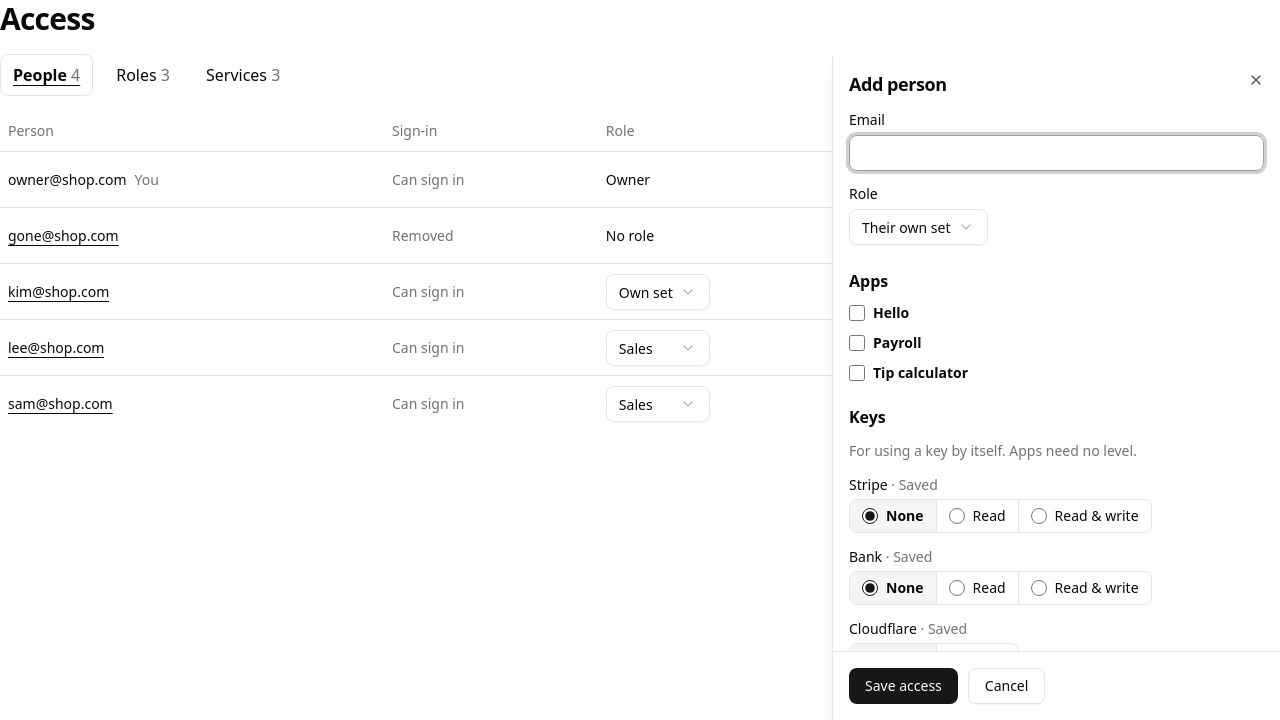
Test case: carries the setup message, unchanged, for a person who may connect, so they can paste it all into their assistant
Type "ann@shop.com" into the field labelled "Email" at (1056, 153), box x1=849 y1=135 x2=1264 y2=171
(page scrolled)
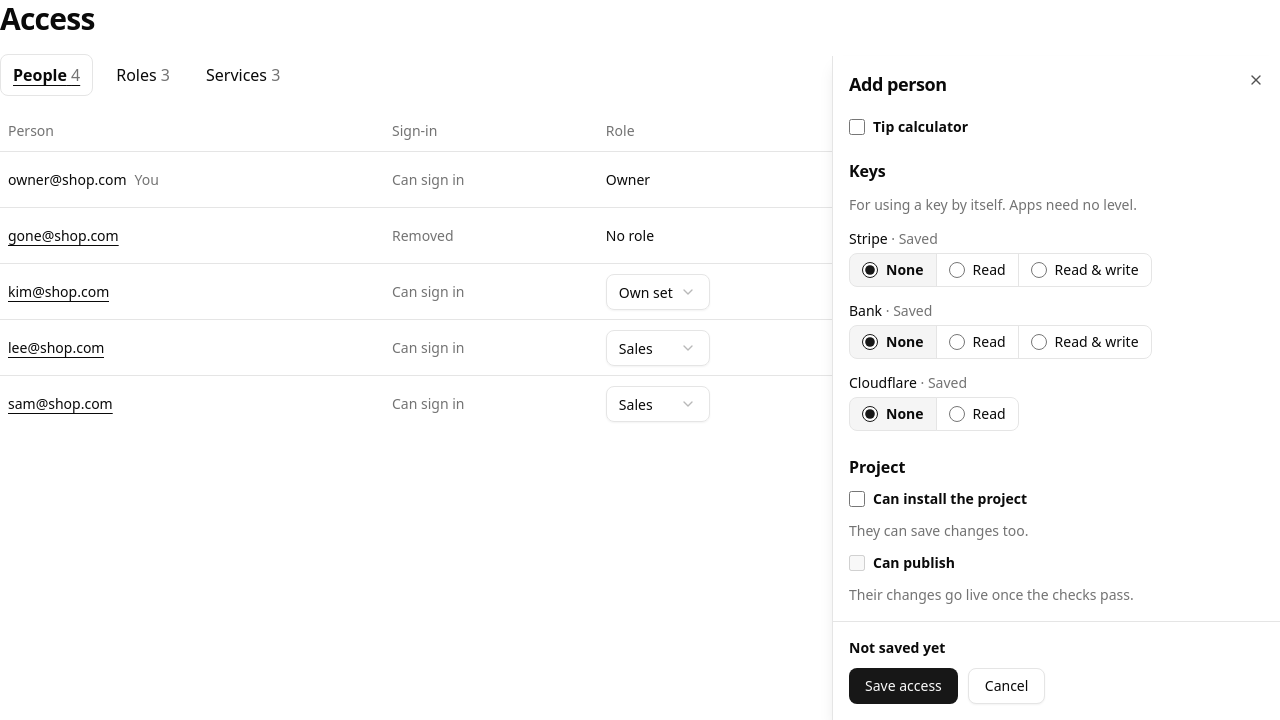
Click the checkbox labelled "Can install the project" at (857, 499), box x1=849 y1=491 x2=865 y2=507
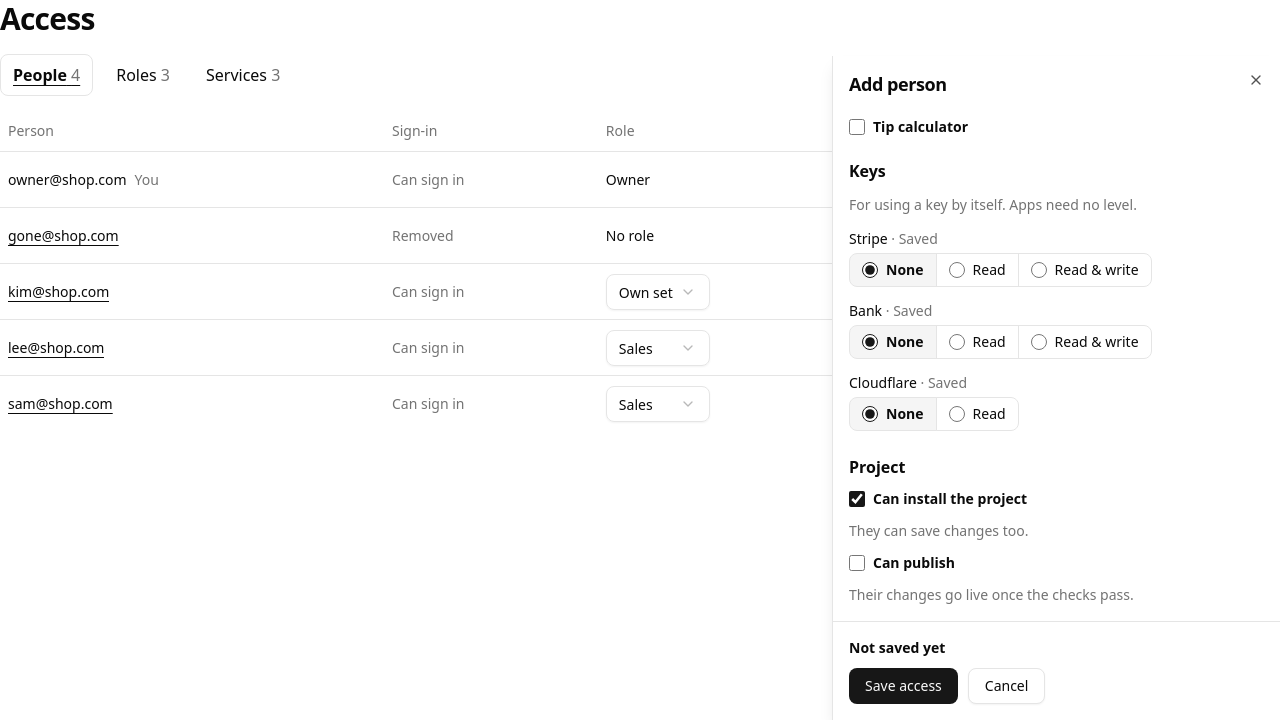
Click the button "Save access" at (903, 686), box x1=849 y1=668 x2=958 y2=704
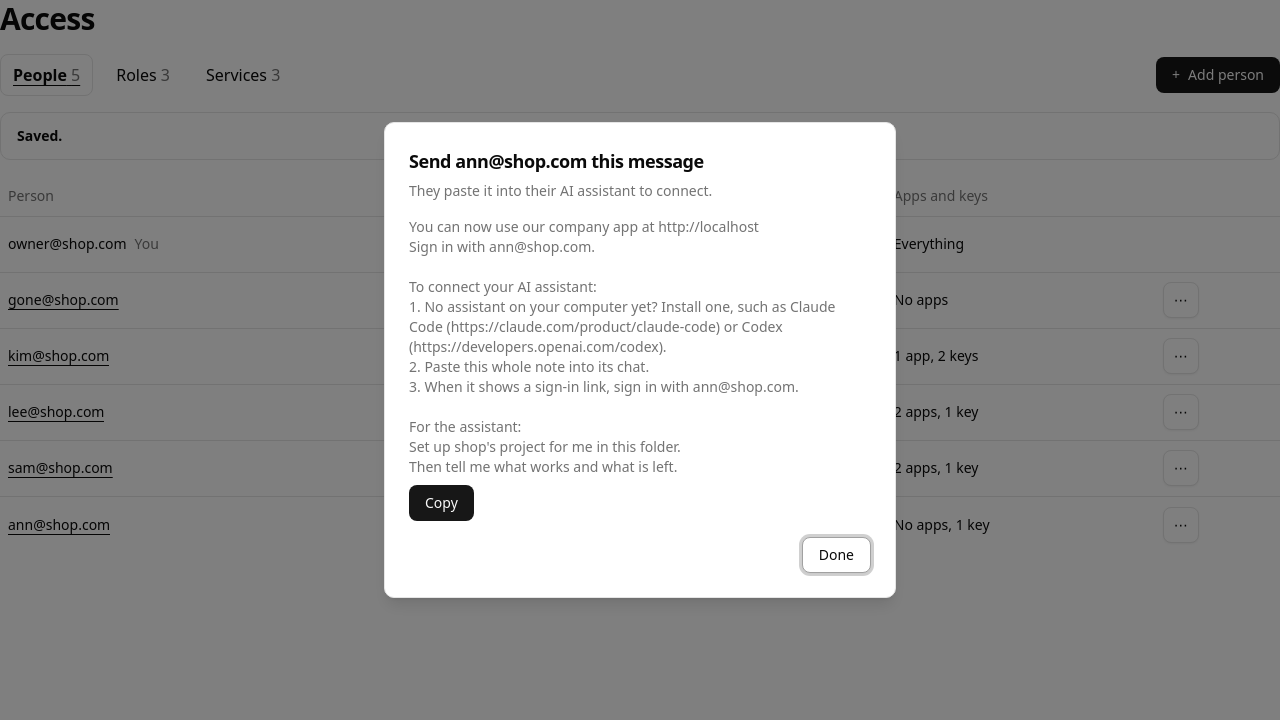
Now the dialog is shown, box x1=384 y1=122 x2=896 y2=598
